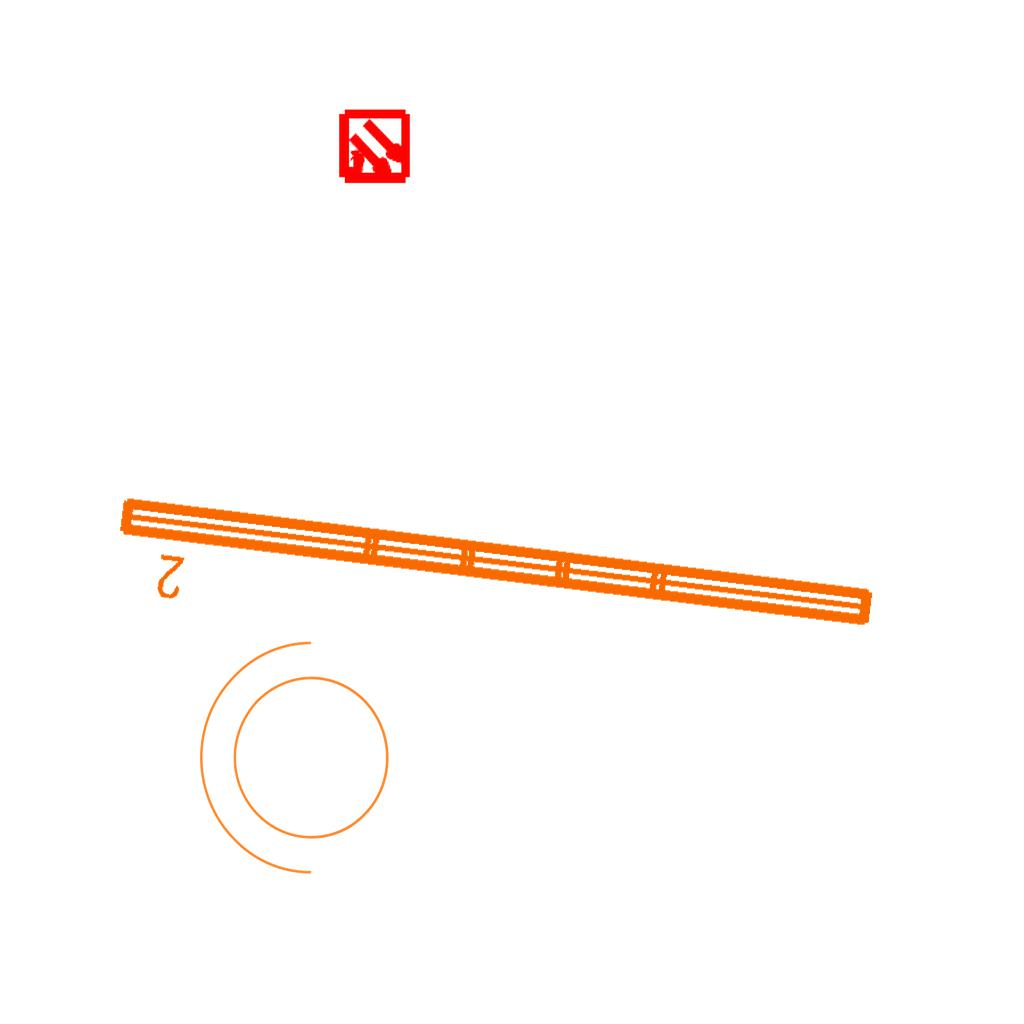Ambulanz_Pendelleuchte_LED: (103, 484, 885, 690)
OT_Multisensormelder_(Kombination_RMO_WMD): (318, 92, 431, 205)
Scheinwerfer_fuer_Alarmbeleuchtung: (189, 632, 414, 896)
